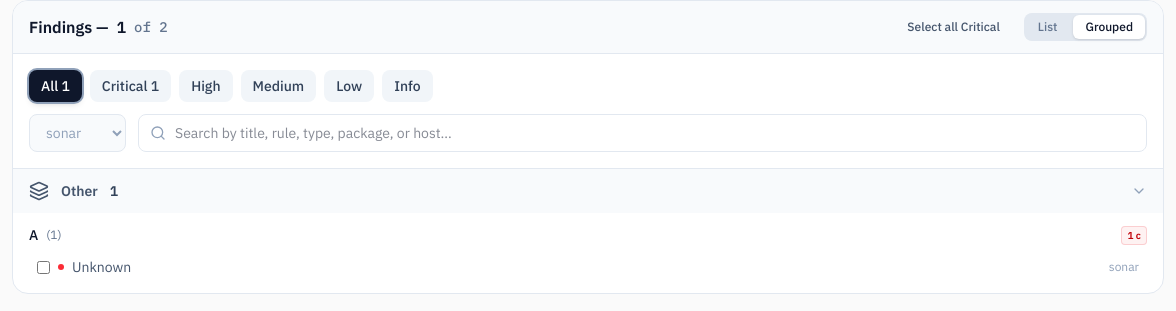
it: grouped view (the default) exposes selection checkboxes so bulk selection is visible and usable there
This screenshot has width=1176, height=311.
Click the button "Select all Critical" at {"x": 954, "y": 27}, box [895,15,1012,39]
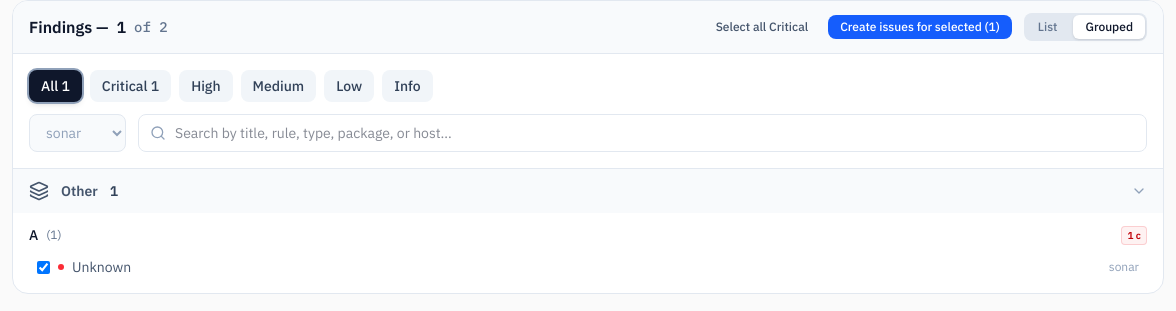
expect the button "Create issues for selected (1)" is shown: met, box [828,15,1012,39]
expect the checkbox named "Select A" is checked: met
Click the checkbox named "Select A" at {"x": 44, "y": 267}, box [37,260,50,274]
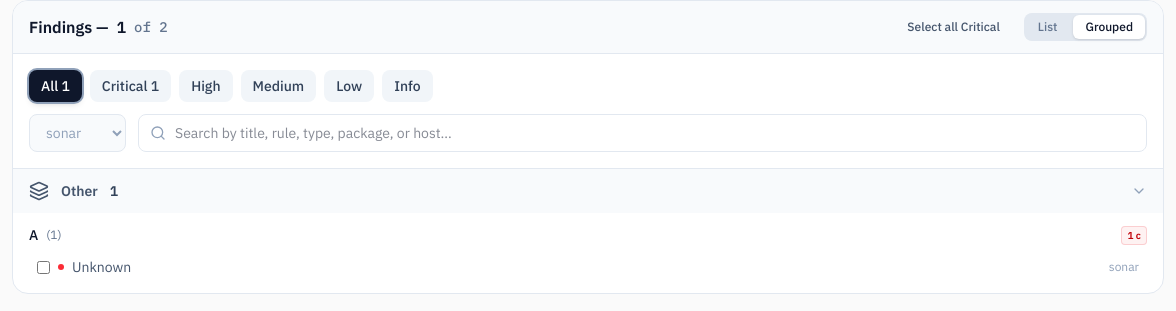
expect the checkbox named "Select A" is not checked: met, box [37,260,50,274]
expect the button "Create issues for selected" is gone: met
